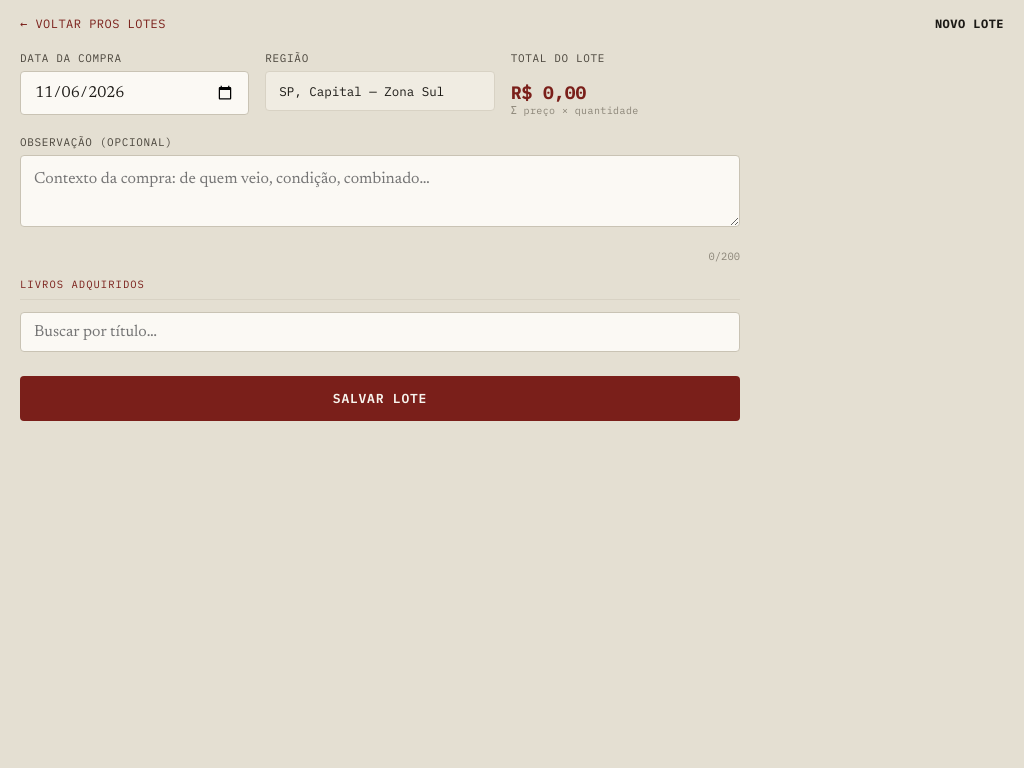
Test case: Backoffice — Novo lote › dropdown FECHA após Adicionar (o operador vê o livro entrar na lista)
This screenshot has width=1024, height=768.
Click the field with placeholder "Buscar por título…": (380, 332) [20,312,740,352]
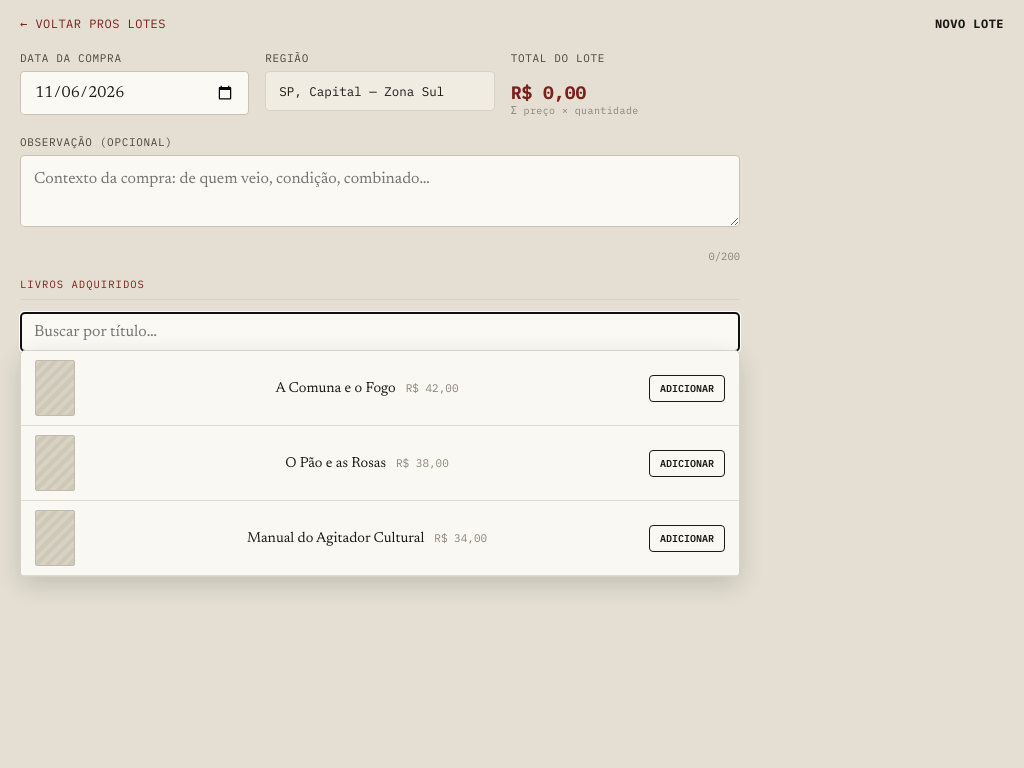
Click the button "Adicionar" in the row of "R$ 42,00": (687, 388) [649,374,725,402]
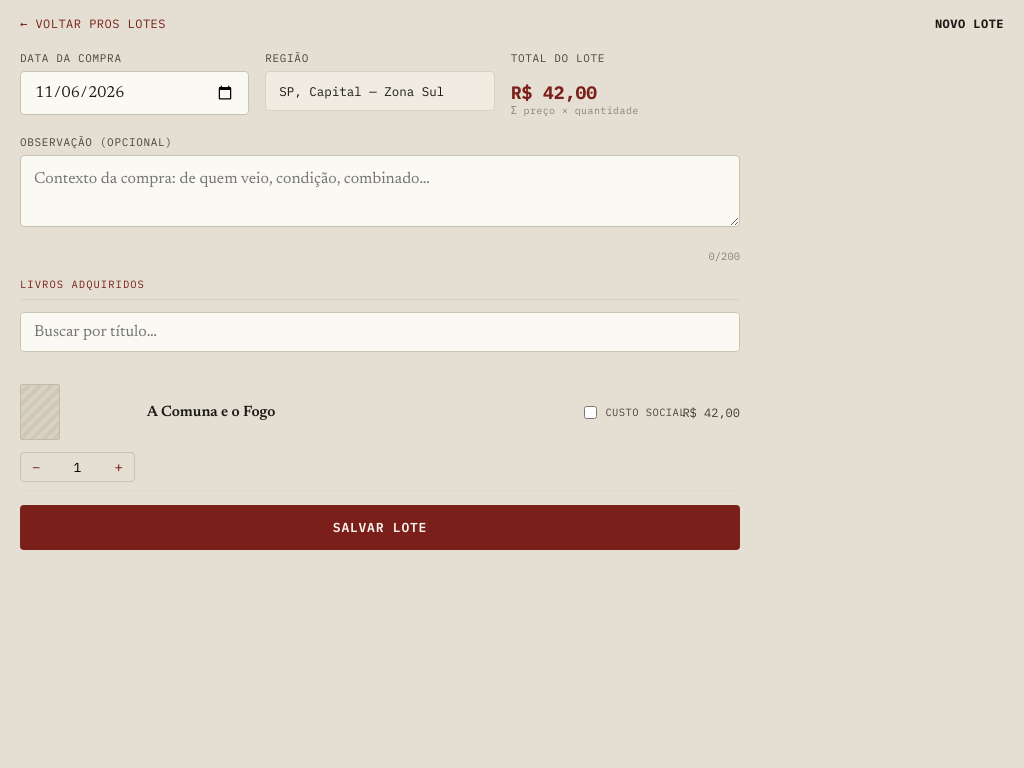
Now the text "A Comuna e o Fogo" is shown, box [147,404,275,420]
Now the element with class "lote-form__available" is gone
Now the text "O Pão e as Rosas" is gone
